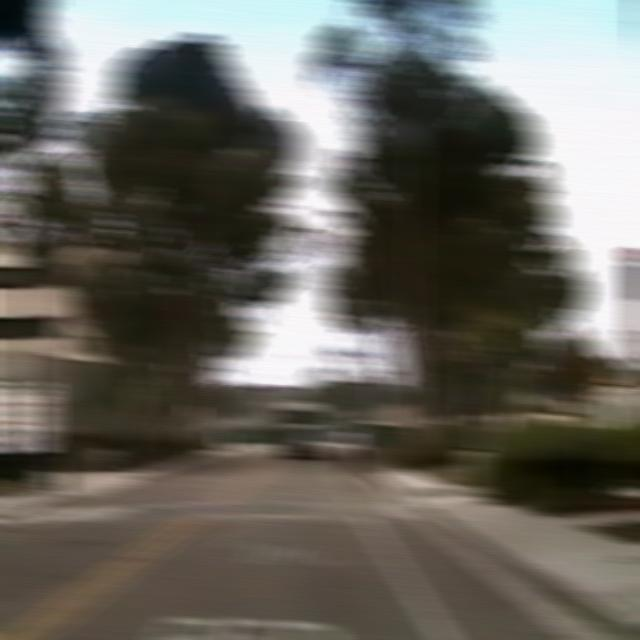pedestrianCrossing: (563, 336, 609, 405)
